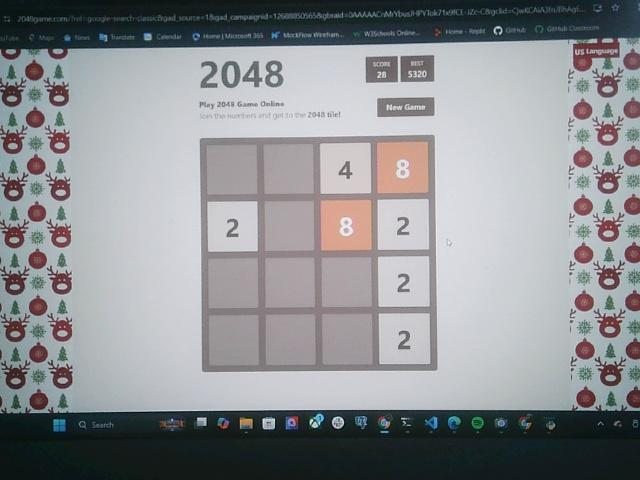best_score_box: (401, 55, 434, 83)
board: (200, 135, 437, 372)
button: (376, 97, 433, 117)
score_box: (366, 56, 397, 83)
tile: (207, 199, 258, 253), (377, 140, 427, 194), (321, 199, 372, 251), (379, 313, 431, 364), (321, 142, 371, 194), (378, 199, 429, 249), (378, 256, 429, 306)
